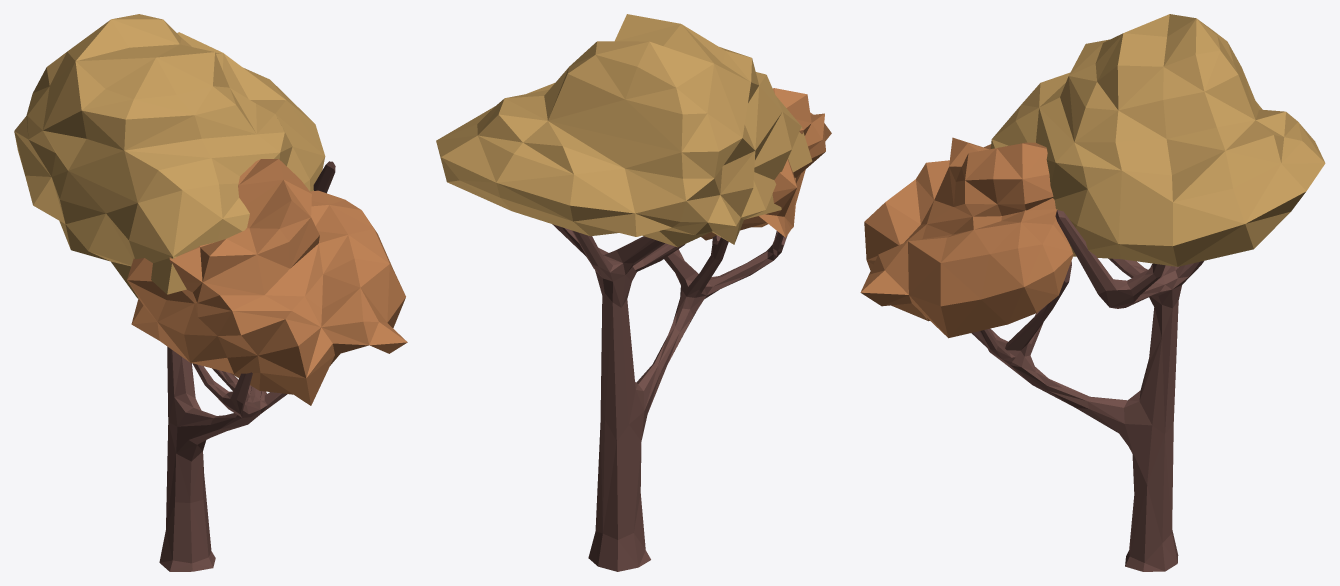
The model's file is CommonTree_Autumn_2.lod1.glb.
The picture shows the model from 3 angles, left to right: view 1: azimuth 30°, elevation 25°; view 2: azimuth 150°, elevation 25°; view 3: azimuth 270°, elevation 25°; orthographic projection. The views are drawn at different scales.
Visible parts, largest first — view 1: CommonTree_Autumn_2; view 2: CommonTree_Autumn_2; view 3: CommonTree_Autumn_2.
Boxes of the visible parts, left/top/right/bottom form: CommonTree_Autumn_2: left=14, top=14, right=407, bottom=571; CommonTree_Autumn_2: left=436, top=14, right=831, bottom=571; CommonTree_Autumn_2: left=860, top=14, right=1325, bottom=571.
Size of the model in its own units: 1.66 by 3.12 by 2.54.
